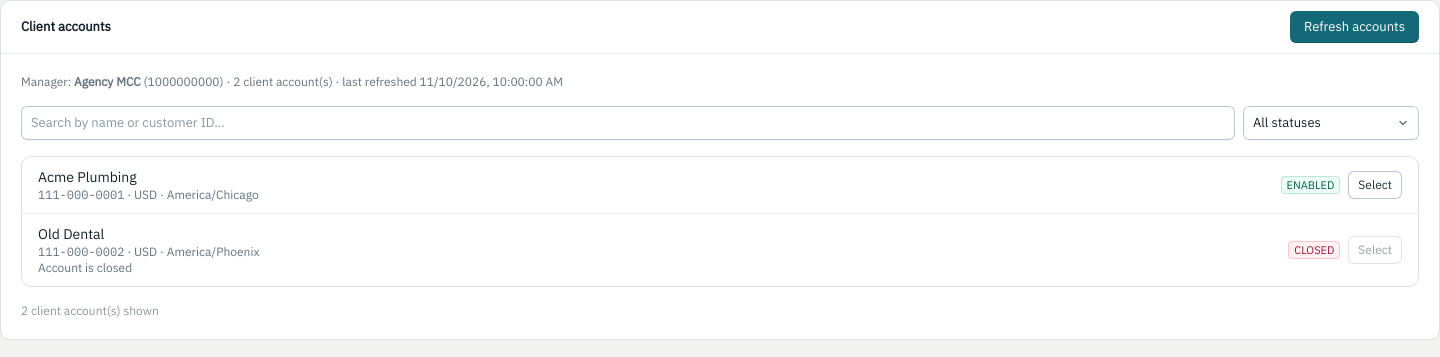
it: AccountSelector › searches and filters through the backend
Check: the text "Acme Plumbing" is shown, box x1=38 y1=168 x2=137 y2=186
Type "dental" into the field named "Search accounts" at x=628, y=123, box x1=21 y1=106 x2=1235 y2=140
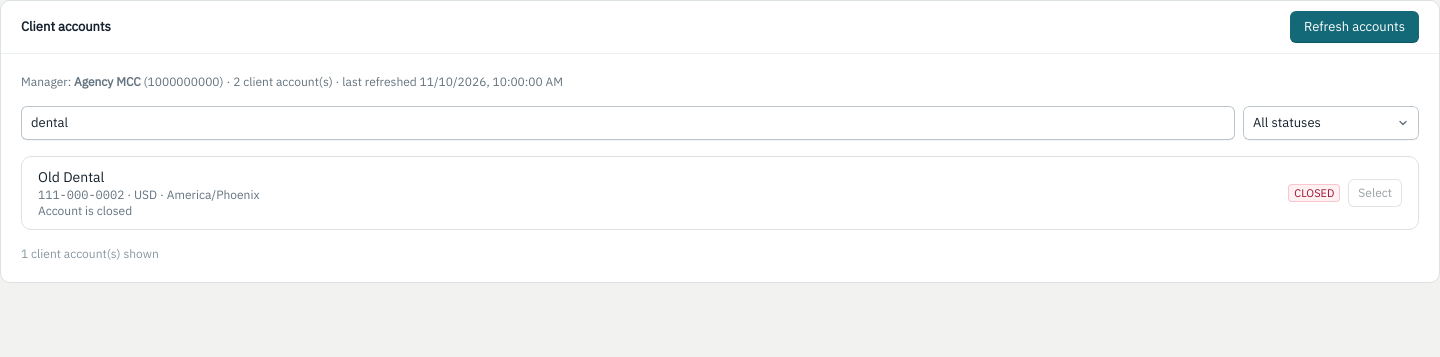
Check: the text "Old Dental" is shown, box x1=38 y1=168 x2=104 y2=186
Check: the text "Acme Plumbing" is gone
Replace the text in the field named "Search accounts" with "zzz" at x=628, y=123, box x1=21 y1=106 x2=1235 y2=140
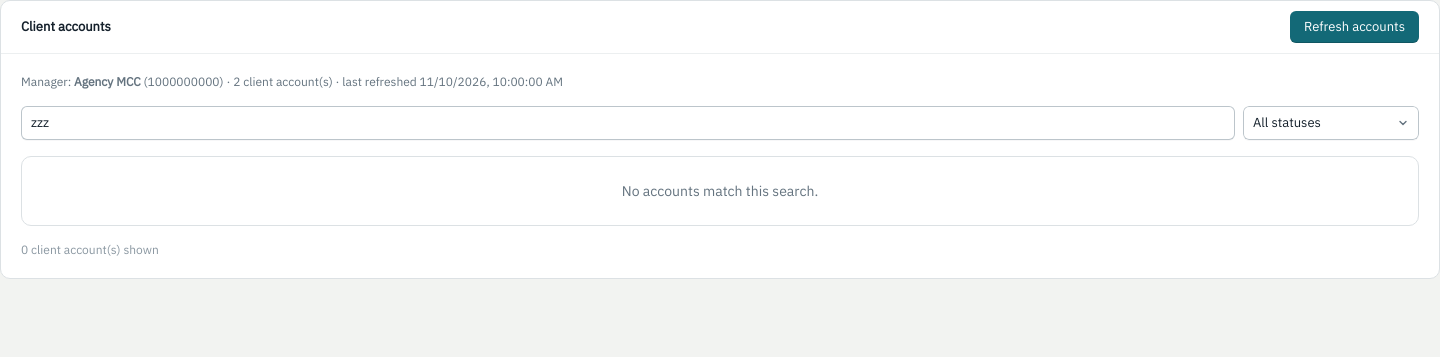
Check: the list item "No accounts match this search." is shown, box x1=622 y1=182 x2=818 y2=200
